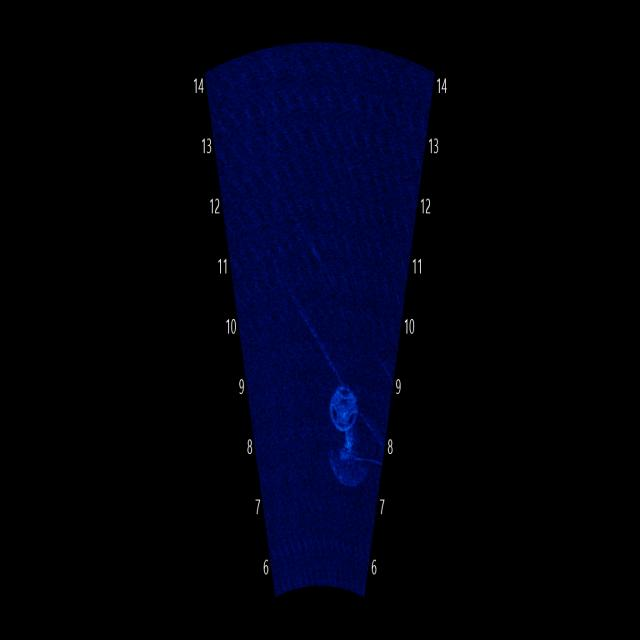circle: (324, 362, 366, 444)
